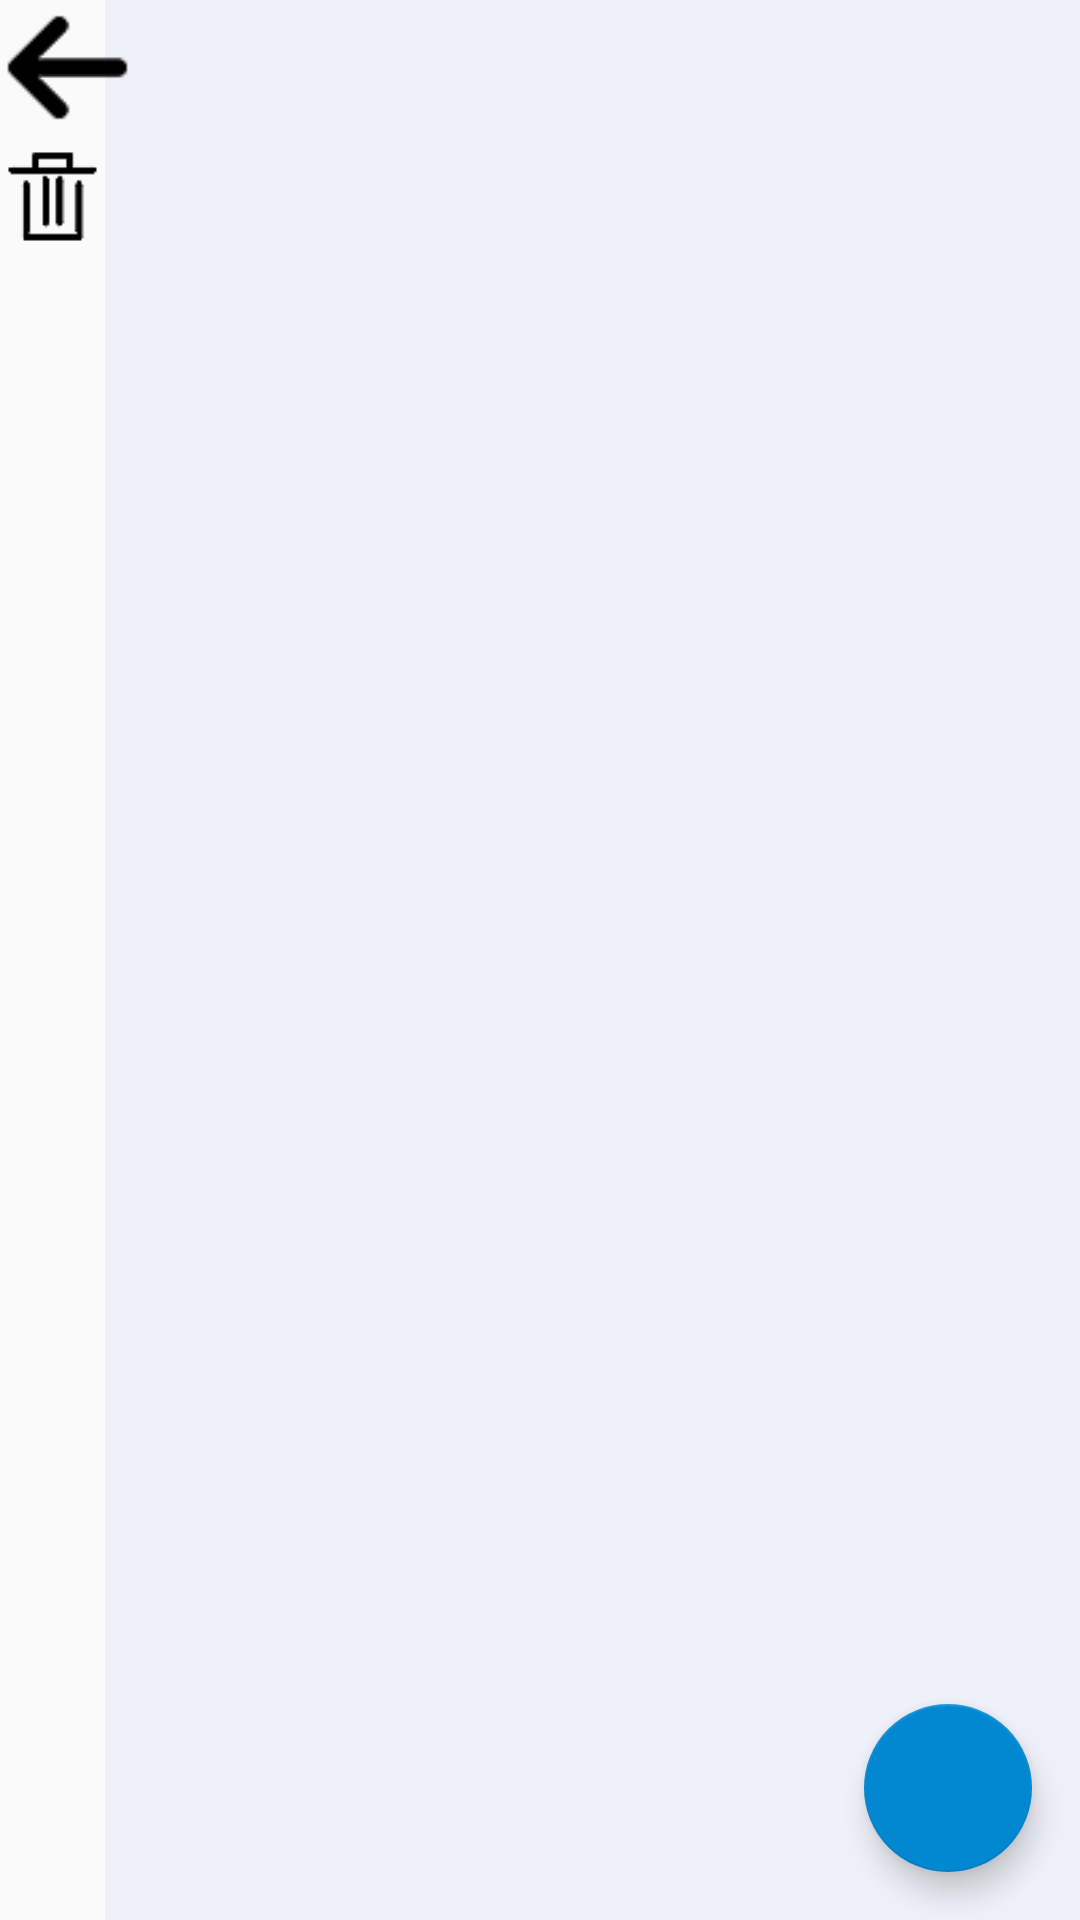

Named icons in this screenshot (1080 × 1920) and their bounding boxes, (x1, y1, x2, y2):
arrow back: (7, 15, 128, 120)
delete: (8, 152, 97, 241)
